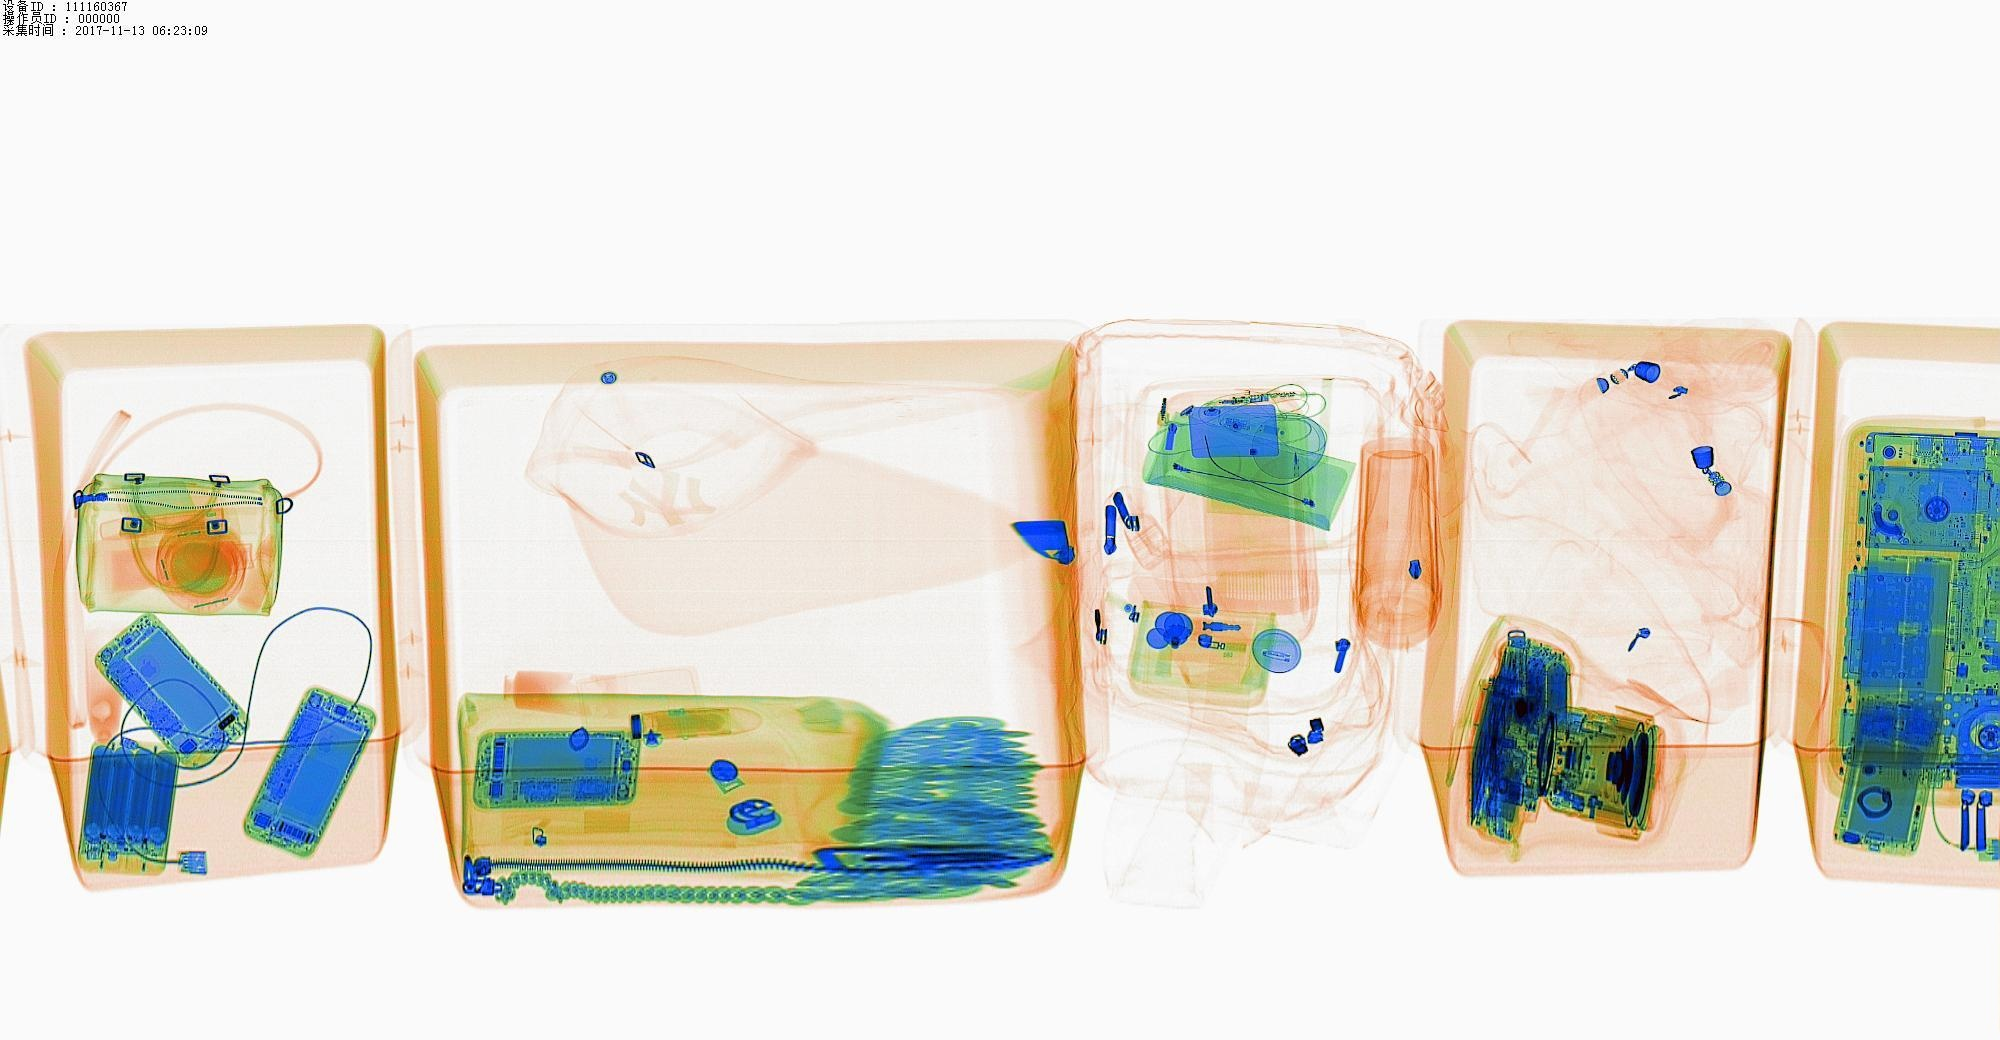core: (85, 741, 176, 875)
